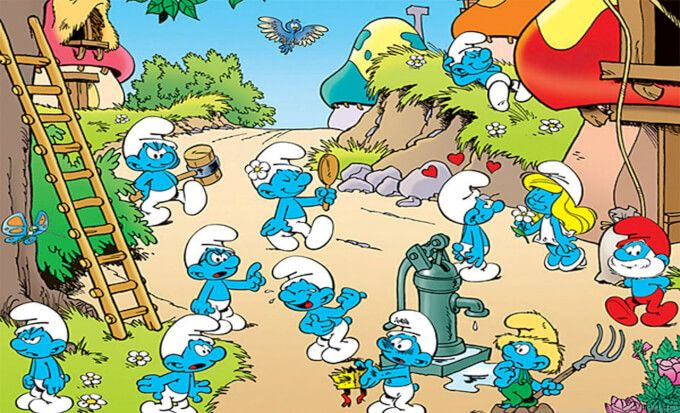smurf: (241, 135, 335, 253), (115, 116, 210, 229), (271, 256, 369, 363), (512, 159, 597, 273), (180, 223, 264, 336), (134, 313, 227, 413), (5, 298, 79, 413), (605, 218, 679, 330), (487, 311, 567, 413), (363, 305, 437, 413), (435, 170, 505, 284), (441, 27, 532, 111)
